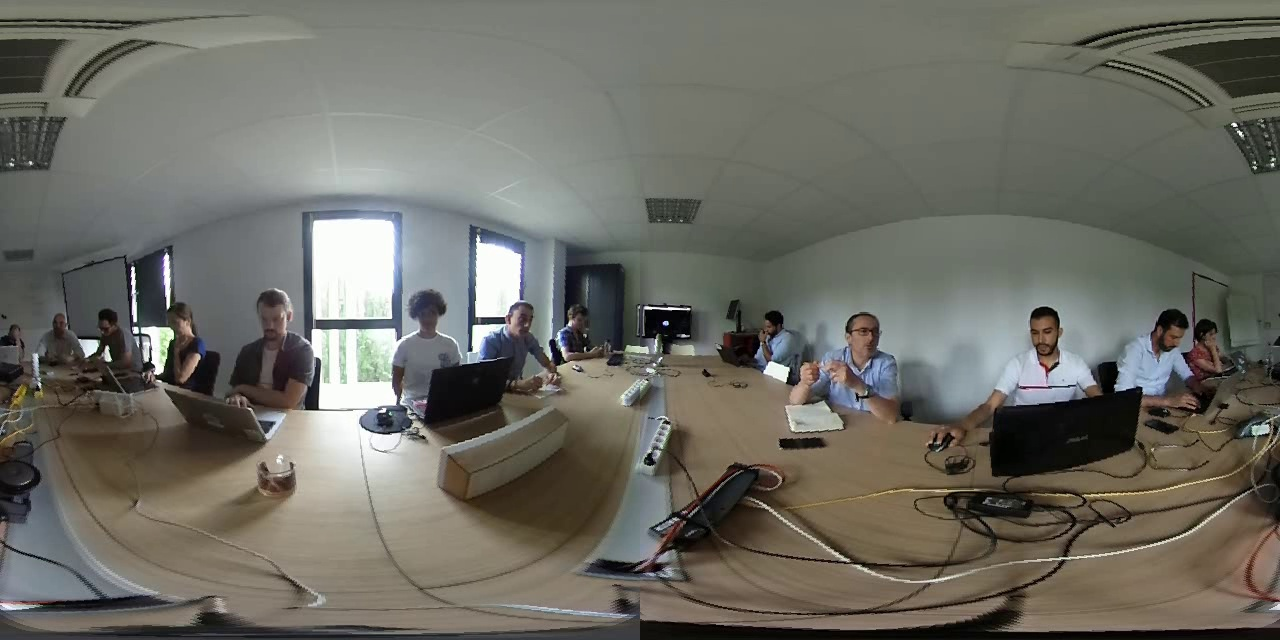person: (797, 303, 912, 424), (229, 278, 329, 410), (984, 300, 1093, 405), (383, 278, 471, 379), (1112, 299, 1190, 397), (480, 282, 549, 385), (152, 296, 216, 381), (81, 300, 144, 377), (1189, 305, 1244, 385), (554, 296, 602, 364), (35, 301, 83, 369), (754, 306, 795, 365), (2, 311, 27, 353)
